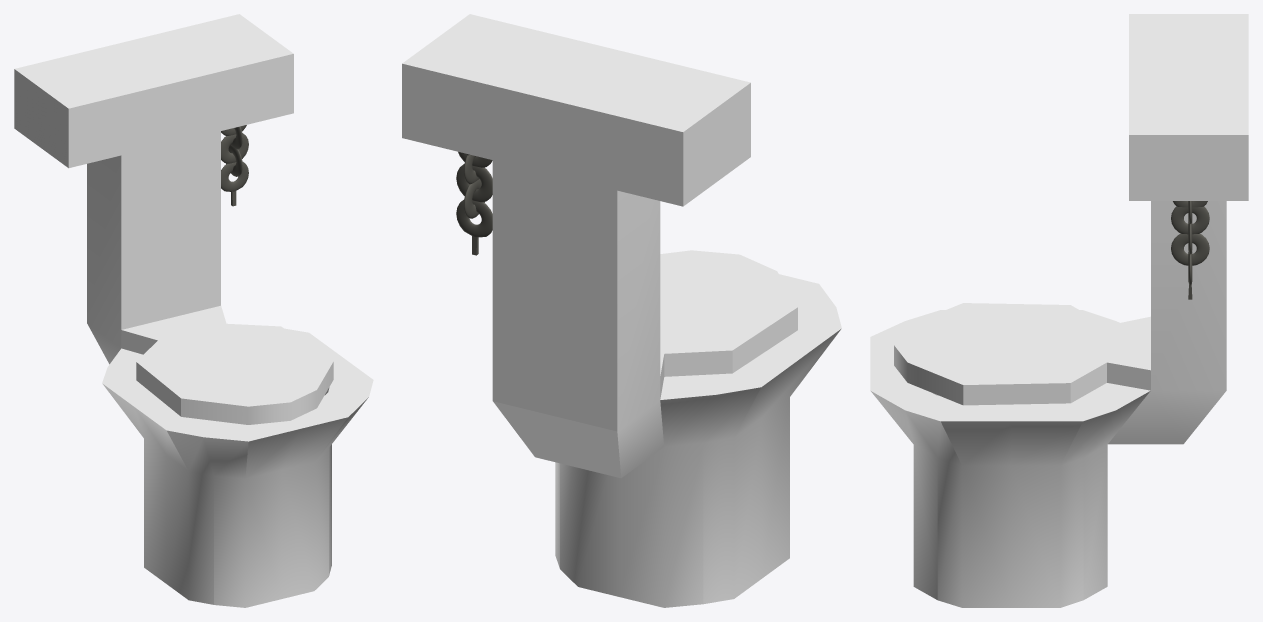
File: toilet.fbx
3 renders of one model, left to right at view 1: azimuth 30°, elevation 25°; view 2: azimuth 150°, elevation 25°; view 3: azimuth 270°, elevation 25°, orthographic. The views are drawn at different scales.
Parts seen in each view (by area): view 1: pTorus8; view 2: pTorus8; view 3: pTorus8.
Part boxes in pixels (left/top/right/bottom): pTorus8: left=14, top=14, right=373, bottom=607; pTorus8: left=402, top=14, right=841, bottom=607; pTorus8: left=870, top=14, right=1248, bottom=607.
Size of the model in its own units: 4.86 by 9.23 by 6.42.
